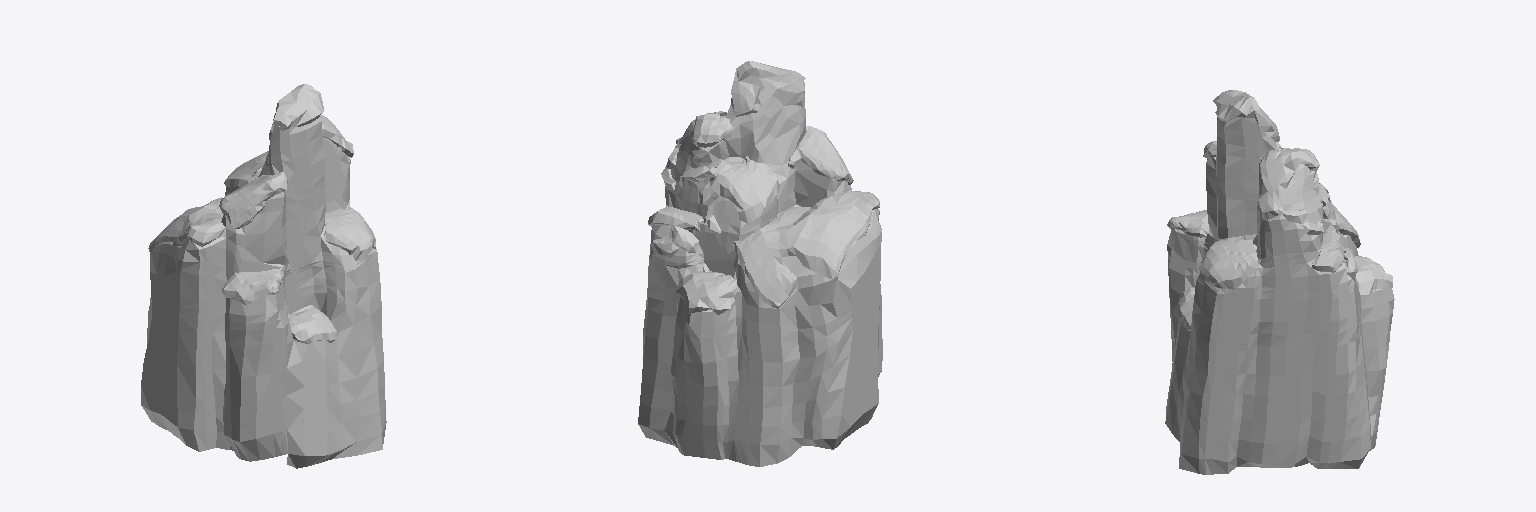
The model's file is Rock_Pillar_2_SnowCovered.obj.
3 views of the same model, side by side, from view 1: azimuth 30°, elevation 25°; view 2: azimuth 150°, elevation 25°; view 3: azimuth 270°, elevation 25° (orthographic).
Parts seen in each view (by area): view 1: Rock_Pillar_3, Snow_Cap; view 2: Rock_Pillar_3, Snow_Cap; view 3: Rock_Pillar_3, Snow_Cap.
Boxes of the visible parts, <box> form: Rock_Pillar_3: <box>141,115,386,468</box>; Snow_Cap: <box>148,84,375,343</box>; Rock_Pillar_3: <box>638,75,882,466</box>; Snow_Cap: <box>648,61,879,314</box>; Rock_Pillar_3: <box>1165,117,1394,474</box>; Snow_Cap: <box>1167,90,1392,330</box>.
Bounding box in the file's own units: 3.41 × 6.07 × 3.59.